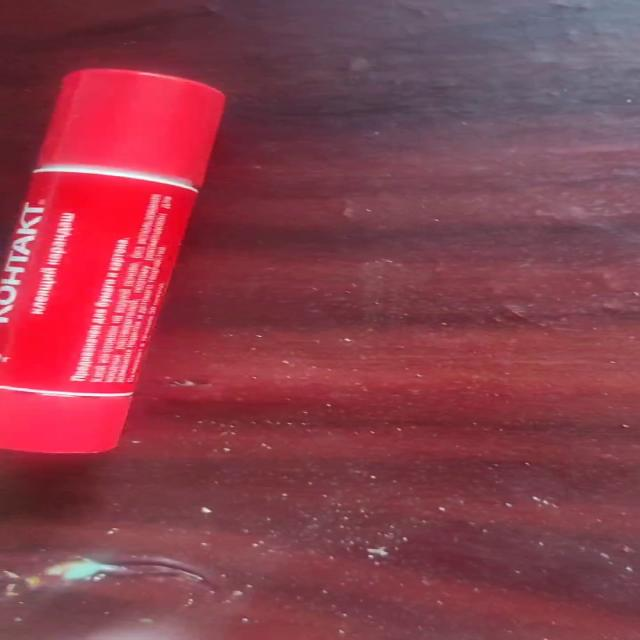glue: (0, 67, 227, 455)
